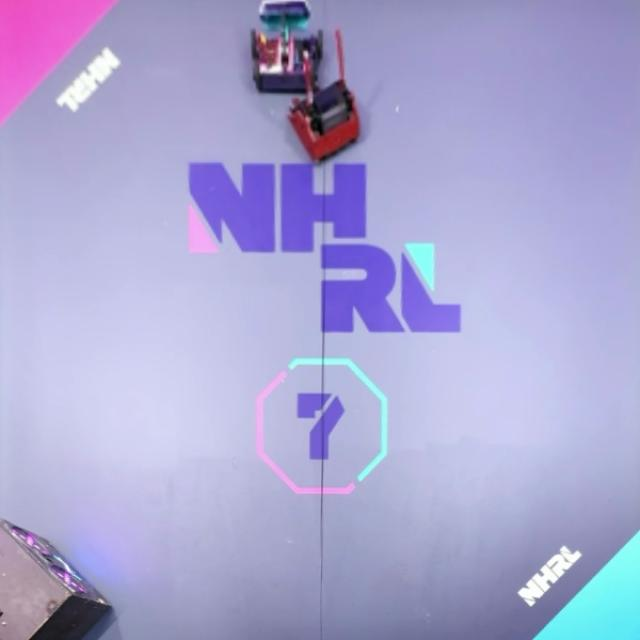housebot: (0, 522, 116, 640)
robot: (288, 29, 362, 163), (250, 2, 326, 92)
